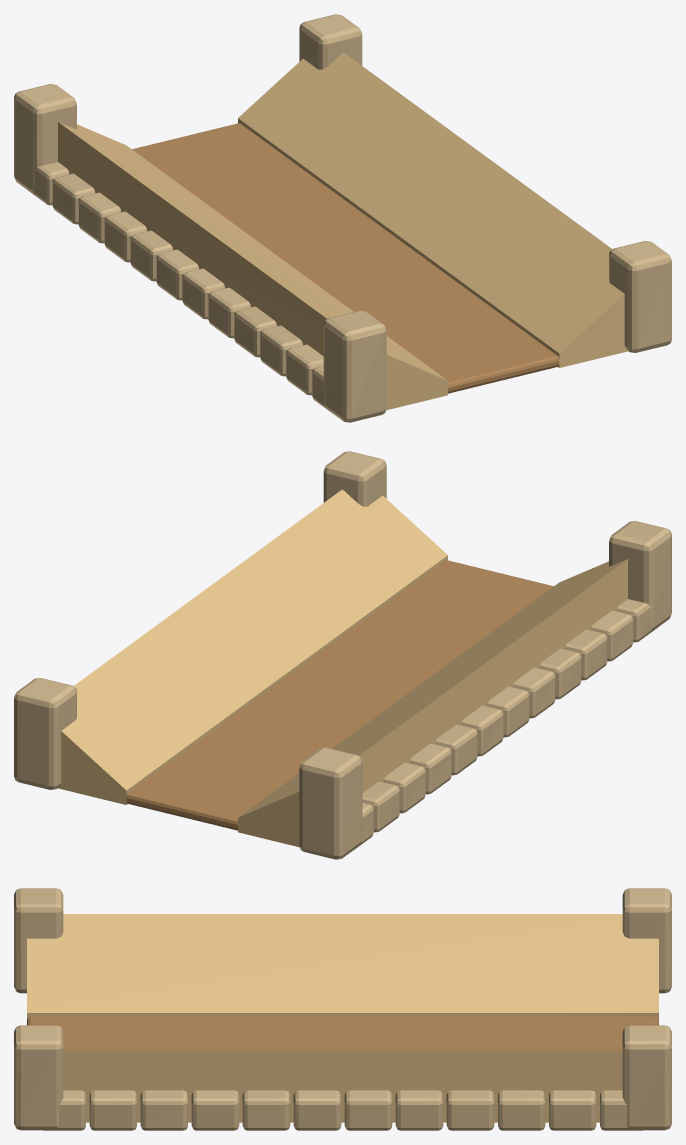
Rendered from irrigation-ditch.source.glb.
The picture shows the model from 3 angles, top to bottom: view 1: azimuth 30°, elevation 25°; view 2: azimuth 150°, elevation 25°; view 3: azimuth 270°, elevation 25°; orthographic projection.
Visible parts, largest first — view 1: irrigation-ditch-right-bank-mesh, irrigation-ditch-channel-floor-mesh, irrigation-ditch-left-bank-mesh, irrigation-ditch-output-left-corner-mesh, irrigation-ditch-output-right-corner-mesh, irrigation-ditch-input-left-corner-mesh, irrigation-ditch-input-right-corner-mesh, irrigation-ditch-left-edge-block-2-mesh, irrigation-ditch-left-edge-block-3-mesh, irrigation-ditch-left-edge-block-4-mesh, irrigation-ditch-left-edge-block-5-mesh, irrigation-ditch-left-edge-block-6-mesh (+6 smaller); view 2: irrigation-ditch-right-bank-mesh, irrigation-ditch-channel-floor-mesh, irrigation-ditch-left-bank-mesh, irrigation-ditch-input-left-corner-mesh, irrigation-ditch-input-right-corner-mesh, irrigation-ditch-output-left-corner-mesh, irrigation-ditch-output-right-corner-mesh, irrigation-ditch-left-edge-block-10-mesh, irrigation-ditch-left-edge-block-11-mesh, irrigation-ditch-left-edge-block-9-mesh, irrigation-ditch-left-edge-block-8-mesh, irrigation-ditch-left-edge-block-7-mesh (+6 smaller); view 3: irrigation-ditch-left-bank-mesh, irrigation-ditch-right-bank-mesh, irrigation-ditch-channel-floor-mesh, irrigation-ditch-input-right-corner-mesh, irrigation-ditch-output-right-corner-mesh, irrigation-ditch-input-left-corner-mesh, irrigation-ditch-output-left-corner-mesh, irrigation-ditch-right-edge-block-4-mesh, irrigation-ditch-right-edge-block-5-mesh, irrigation-ditch-right-edge-block-8-mesh, irrigation-ditch-right-edge-block-9-mesh, irrigation-ditch-right-edge-block-6-mesh (+7 smaller).
Part boxes in pixels (<box>): irrigation-ditch-right-bank-mesh: <box>238,52,627,367</box>; irrigation-ditch-channel-floor-mesh: <box>132,123,559,393</box>; irrigation-ditch-left-bank-mesh: <box>58,122,447,410</box>; irrigation-ditch-output-left-corner-mesh: <box>323,310,386,422</box>; irrigation-ditch-output-right-corner-mesh: <box>609,241,671,352</box>; irrigation-ditch-input-left-corner-mesh: <box>14,84,76,194</box>; irrigation-ditch-input-right-corner-mesh: <box>299,14,362,69</box>; irrigation-ditch-left-edge-block-2-mesh: <box>52,173,95,224</box>; irrigation-ditch-left-edge-block-3-mesh: <box>78,192,121,243</box>; irrigation-ditch-left-edge-block-4-mesh: <box>104,211,147,262</box>; irrigation-ditch-left-edge-block-5-mesh: <box>130,230,172,281</box>; irrigation-ditch-left-edge-block-6-mesh: <box>156,249,198,300</box>; irrigation-ditch-right-bank-mesh: <box>58,489,447,804</box>; irrigation-ditch-channel-floor-mesh: <box>126,560,553,830</box>; irrigation-ditch-left-bank-mesh: <box>238,559,627,847</box>; irrigation-ditch-input-left-corner-mesh: <box>299,747,362,859</box>; irrigation-ditch-input-right-corner-mesh: <box>14,678,76,789</box>; irrigation-ditch-output-left-corner-mesh: <box>609,521,671,631</box>; irrigation-ditch-output-right-corner-mesh: <box>323,451,386,506</box>; irrigation-ditch-left-edge-block-10-mesh: <box>564,629,607,680</box>; irrigation-ditch-left-edge-block-11-mesh: <box>590,610,633,661</box>; irrigation-ditch-left-edge-block-9-mesh: <box>538,648,581,699</box>; irrigation-ditch-left-edge-block-8-mesh: <box>513,667,555,718</box>; irrigation-ditch-left-edge-block-7-mesh: <box>487,686,529,737</box>; irrigation-ditch-left-bank-mesh: <box>27,914,658,1019</box>; irrigation-ditch-right-bank-mesh: <box>63,1051,622,1122</box>; irrigation-ditch-channel-floor-mesh: <box>27,1016,658,1050</box>; irrigation-ditch-input-right-corner-mesh: <box>622,1025,671,1130</box>; irrigation-ditch-output-right-corner-mesh: <box>14,1025,63,1130</box>; irrigation-ditch-input-left-corner-mesh: <box>622,888,671,993</box>; irrigation-ditch-output-left-corner-mesh: <box>14,888,63,993</box>; irrigation-ditch-right-edge-block-4-mesh: <box>446,1090,494,1130</box>; irrigation-ditch-right-edge-block-5-mesh: <box>395,1090,443,1130</box>; irrigation-ditch-right-edge-block-8-mesh: <box>242,1090,290,1130</box>; irrigation-ditch-right-edge-block-9-mesh: <box>191,1090,239,1130</box>; irrigation-ditch-right-edge-block-6-mesh: <box>344,1090,392,1130</box>.
Bounding box in the file's own units: 1.89 × 0.5 × 3.33.
